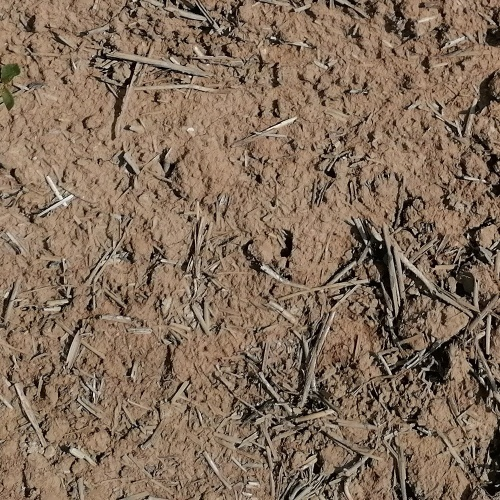beet: (0, 63, 22, 111)
